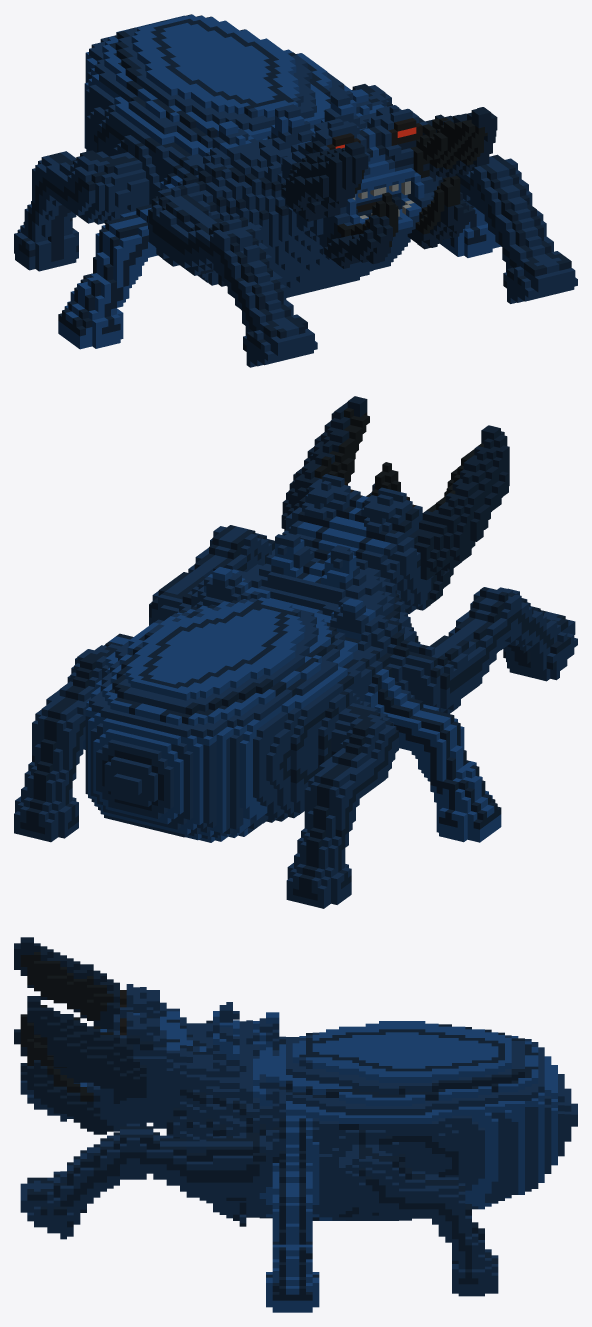
Rendered from beetle_attack_blue_v1.0-1.obj.
3 renders of one model, top to bottom at view 1: azimuth 30°, elevation 25°; view 2: azimuth 150°, elevation 25°; view 3: azimuth 270°, elevation 25°, orthographic. The views are drawn at different scales.
Visible parts, largest first — view 1: beetle_attack_blue_v1; view 2: beetle_attack_blue_v1; view 3: beetle_attack_blue_v1.
Part boxes in pixels (x1=…): beetle_attack_blue_v1: x1=14, y1=14, x2=577, y2=367; beetle_attack_blue_v1: x1=14, y1=396, x2=577, y2=908; beetle_attack_blue_v1: x1=14, y1=937, x2=577, y2=1312.
Size of the model in its own units: 6.8 by 4.2 by 8.5.
Materials: 1 (1 with a texture image).
